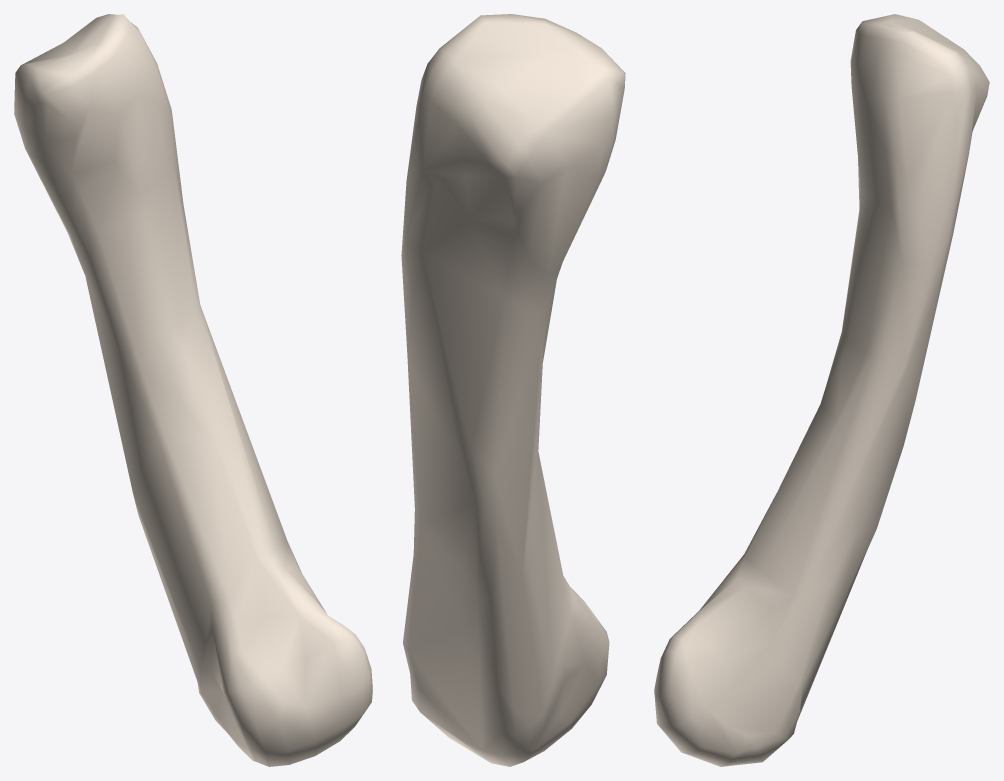
Rendered from right_metacarpal_5.glb.
The picture shows the model from 3 angles, left to right: view 1: azimuth 30°, elevation 25°; view 2: azimuth 150°, elevation 25°; view 3: azimuth 270°, elevation 25°; orthographic projection. The views are drawn at different scales.
Visible parts, largest first — view 1: 5th metacarpal bone.r; view 2: 5th metacarpal bone.r; view 3: 5th metacarpal bone.r.
Part boxes in pixels (x1,y1,x2,y2): 5th metacarpal bone.r: (14,14,372,766); 5th metacarpal bone.r: (401,14,625,766); 5th metacarpal bone.r: (654,14,989,766).
Size of the model in its own units: 0.0205 by 0.0567 by 0.0248.
